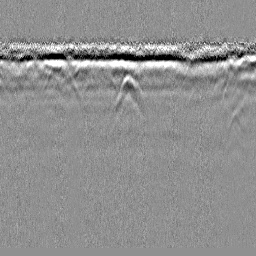cavity: (113, 72, 144, 110)
